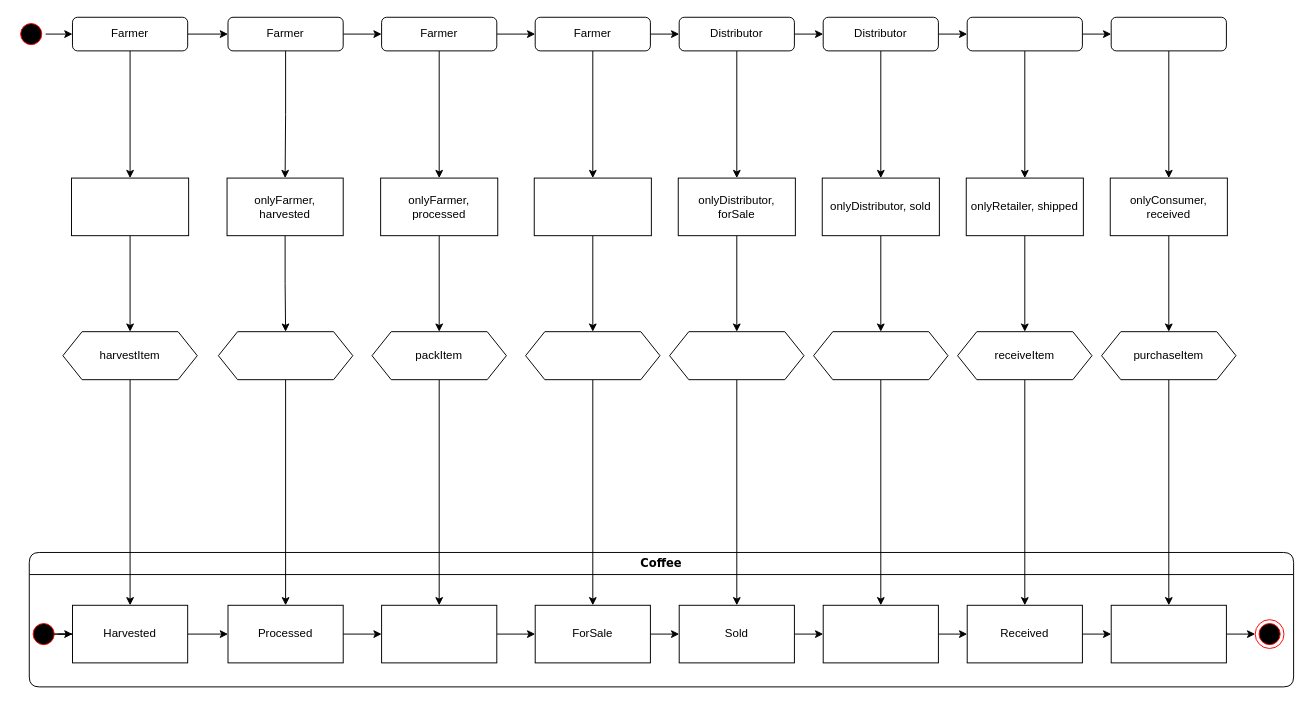
The diagram is 1310 pixels wide and 704 high, and some of its shapes have lost their labels. Each missing label, with the centre of its shape:
buyItem: [736,355]
Consumer: [1168,33]
onlyFarmer: [130,206]
onlyFarmer, packed,: [592,206]
Packed: [439,633]
processItem: [285,355]
Purchased: [1168,633]
Retailer: [1024,33]
sellItem: [592,355]
shipItem: [880,355]
Shipped: [880,633]
